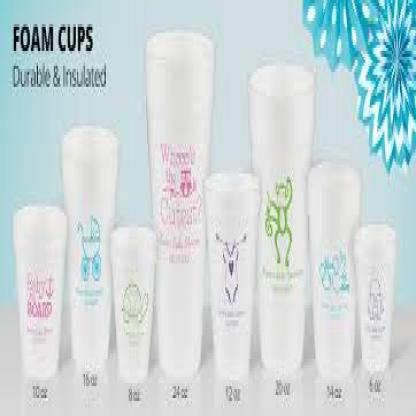Plastic: (1, 3, 416, 416)
